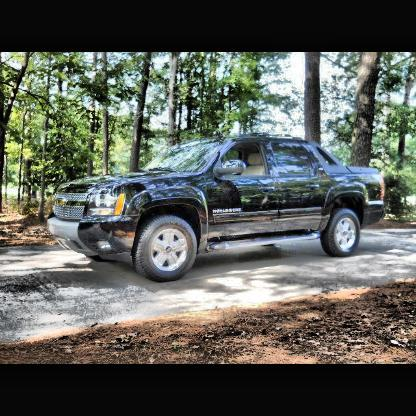Chevrolet Avalanche Crew Cab 2012: (48, 134, 387, 286)
